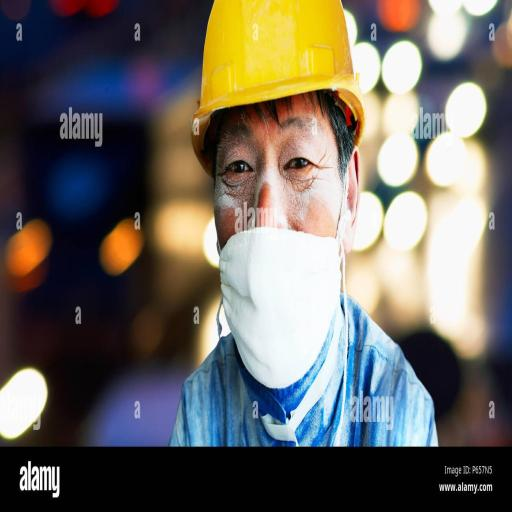mask: (214, 230, 353, 392)
